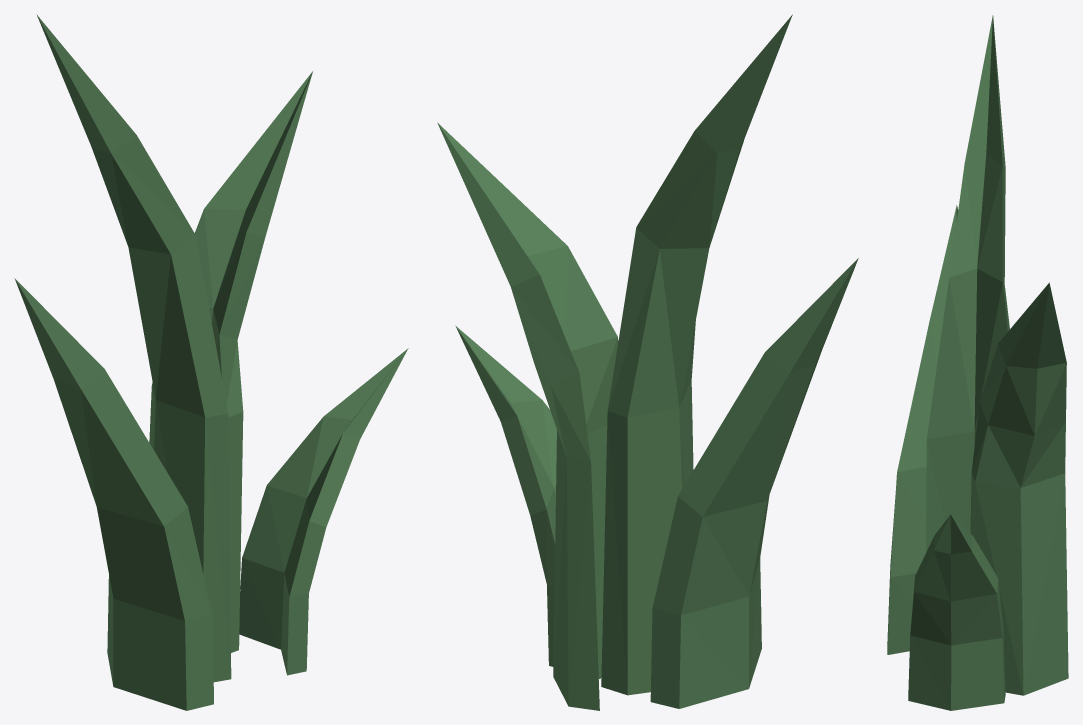
File: _grass_2.glb
The picture shows the model from 3 angles, left to right: view 1: azimuth 30°, elevation 25°; view 2: azimuth 150°, elevation 25°; view 3: azimuth 270°, elevation 25°; orthographic projection. The views are drawn at different scales.
Parts seen in each view (by area): view 1: grass_2; view 2: grass_2; view 3: grass_2.
Part boxes in pixels (x1,y1,x2,y2): grass_2: (14, 14, 408, 710); grass_2: (437, 14, 858, 710); grass_2: (887, 15, 1068, 710).
Bounding box in the file's own units: 0.6431 × 1.06 × 0.2948.
Materials: 1 (1 with a texture image).
